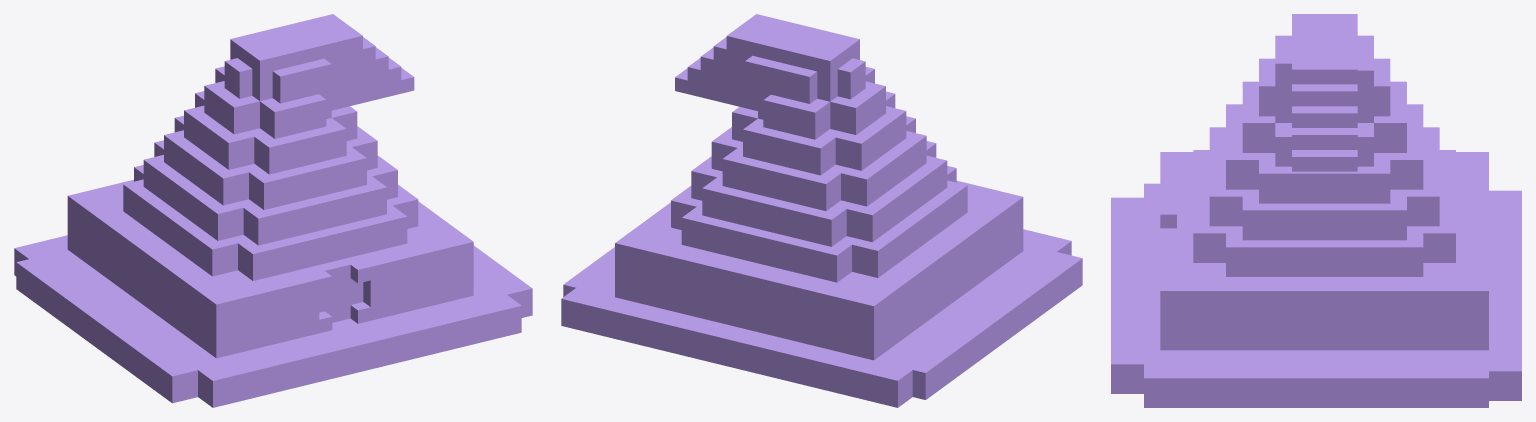
3 renders of one model, left to right at view 1: azimuth 30°, elevation 25°; view 2: azimuth 150°, elevation 25°; view 3: azimuth 270°, elevation 25°, orthographic. The views are drawn at different scales.
Parts seen in each view (by area): view 1: 60; view 2: 60; view 3: 60.
Part boxes in pixels (<box>): 60: <box>14,14,532,407</box>; 60: <box>561,14,1082,407</box>; 60: <box>1111,14,1521,407</box>.
Size of the model in its own units: 280 by 190 by 250.
Materials: 1 (1 with a texture image).
